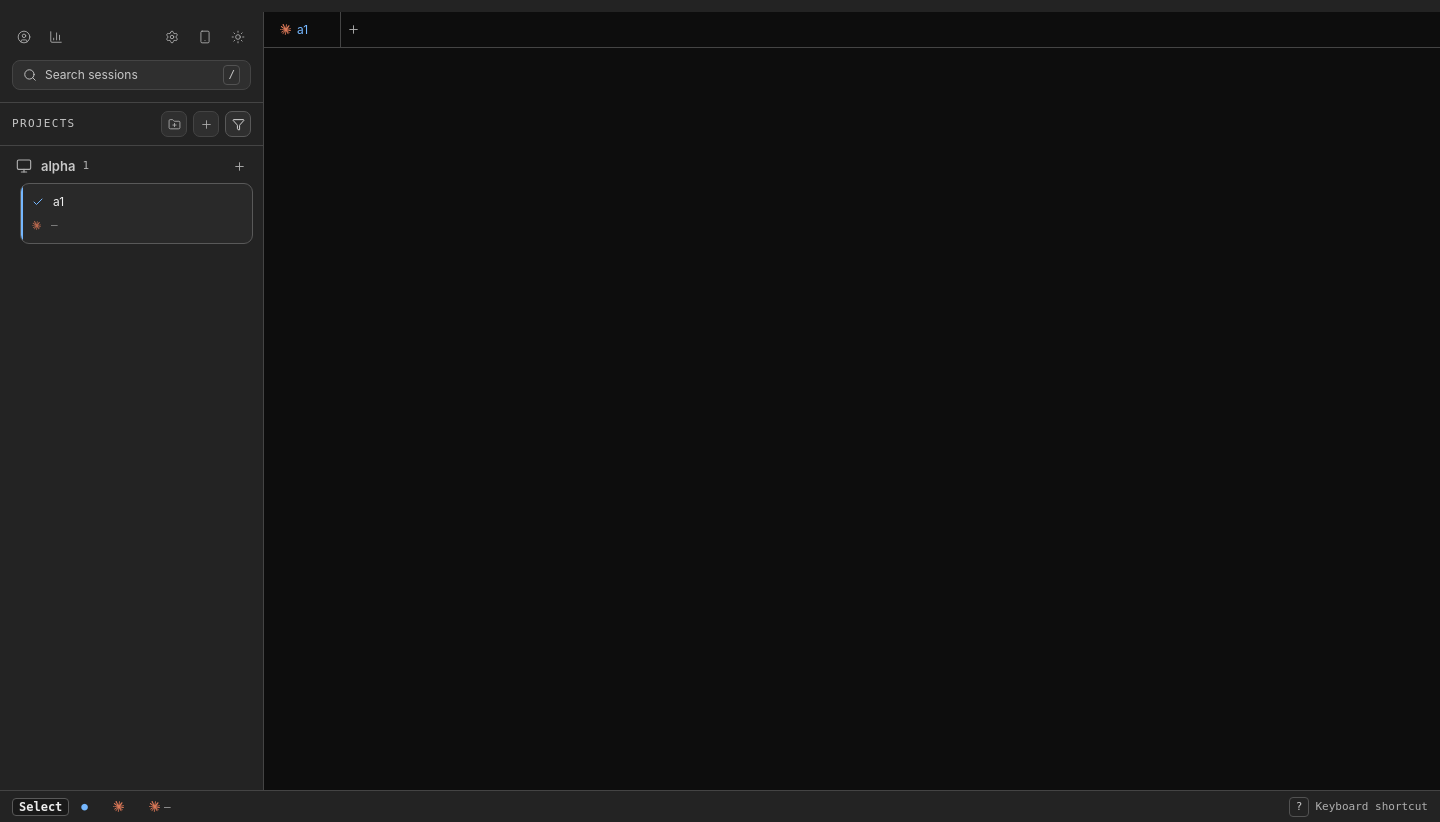
Test: new project › a source that cannot create refuses in its own words and never opens the picker
Click the button named "new project" at [206, 124], box 193,111 -> 219,137
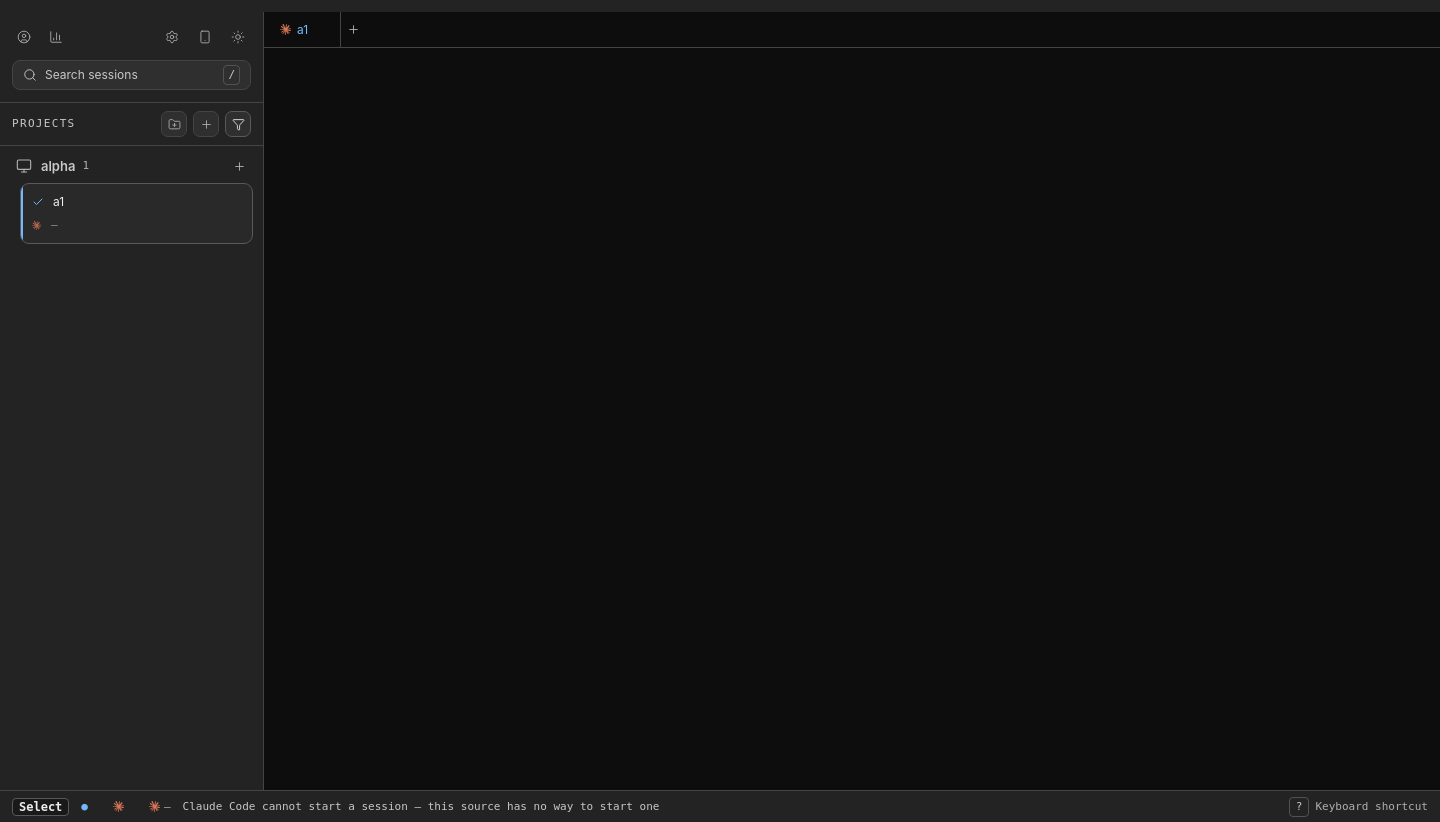
Result: the footer shows "this source has no way to start one" at 183,800 -> 659,812
